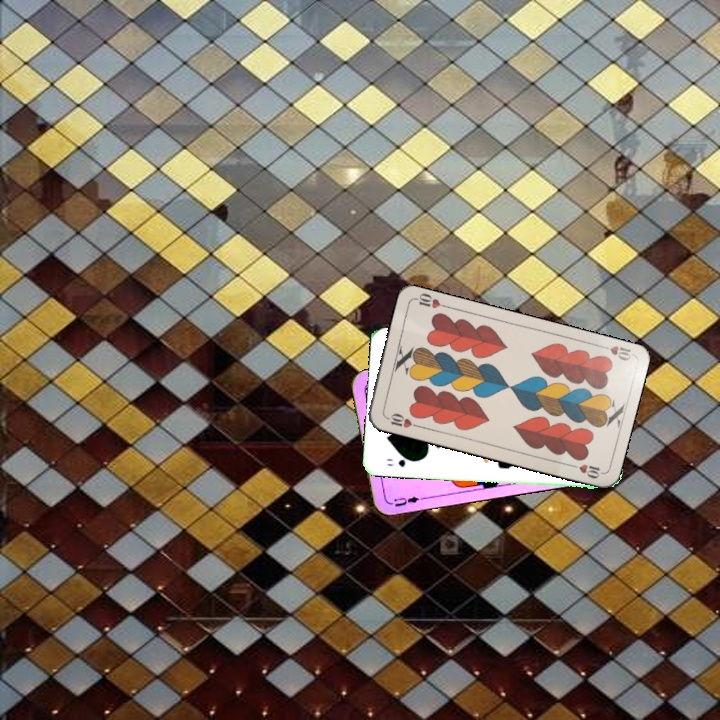EU: (390, 492, 421, 510)
GO: (383, 453, 418, 469)
H10: (381, 409, 421, 431), (595, 341, 633, 363)
